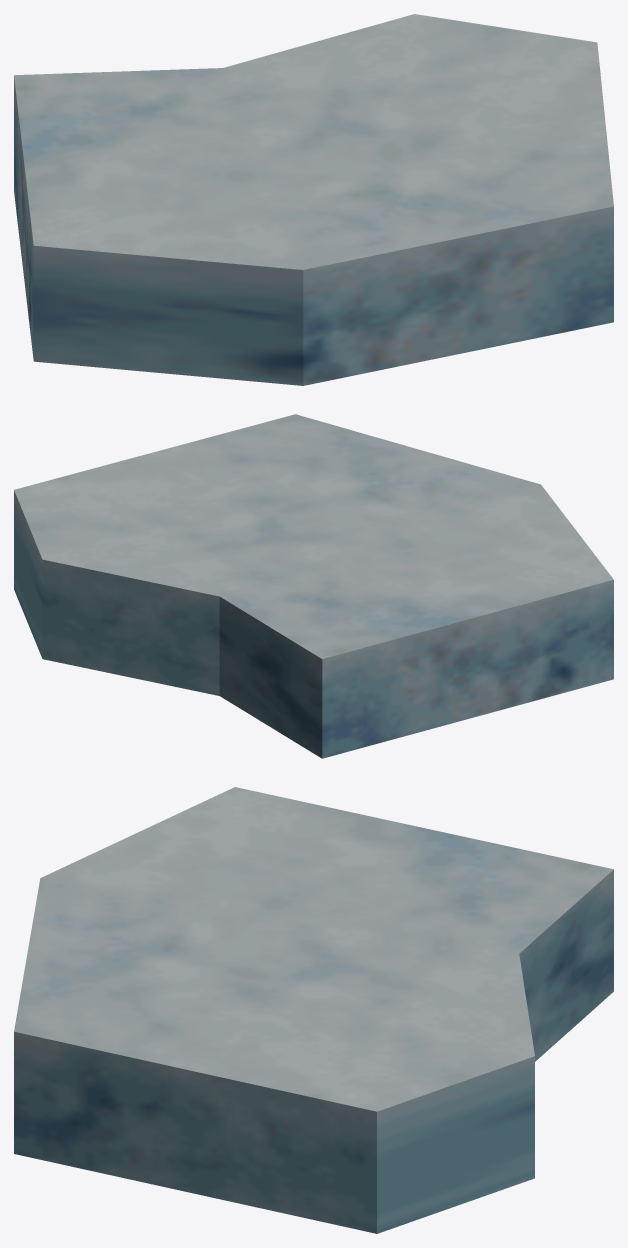
3 views of the same model, one above another, from view 1: azimuth 30°, elevation 25°; view 2: azimuth 150°, elevation 25°; view 3: azimuth 270°, elevation 25° (orthographic). The views are drawn at different scales.
Visible parts, largest first — view 1: a09; view 2: a09; view 3: a09.
Boxes of the visible parts, box(x1,y1,x2,y2) form: a09: box(14, 14, 613, 385); a09: box(14, 414, 613, 758); a09: box(14, 787, 613, 1233).
Bounding box in the file's own units: 410 × 72 × 320.
